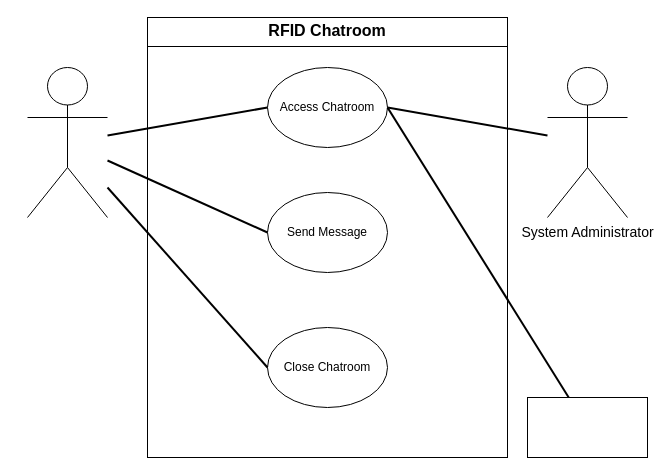
The diagram is 671 pixels wide and 475 high, and some of its shapes have lost their labels. Each missing label, with the box of its shape:
<<actor>> RFID Tag: (526, 396, 648, 458)
Chatroom Client: (26, 66, 108, 218)
